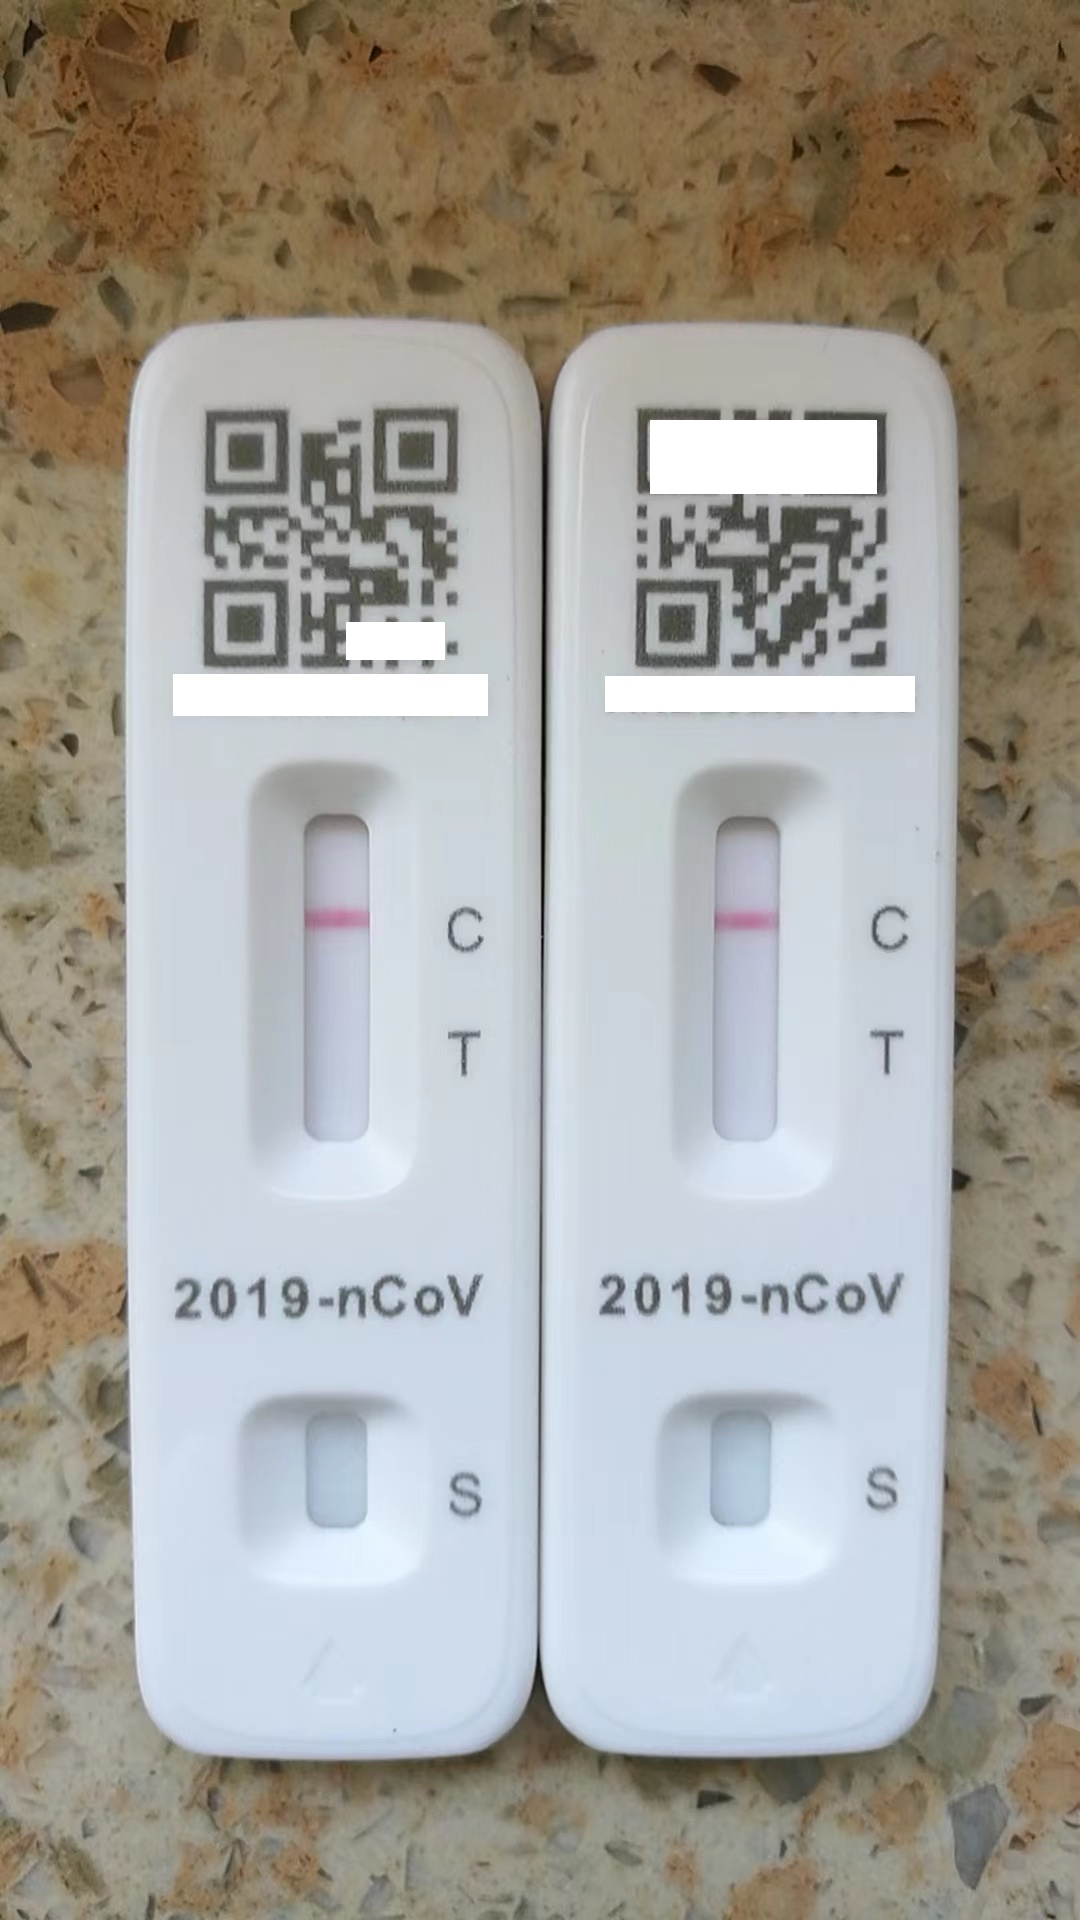negative: (251, 758, 400, 1229), (676, 767, 816, 1215)
